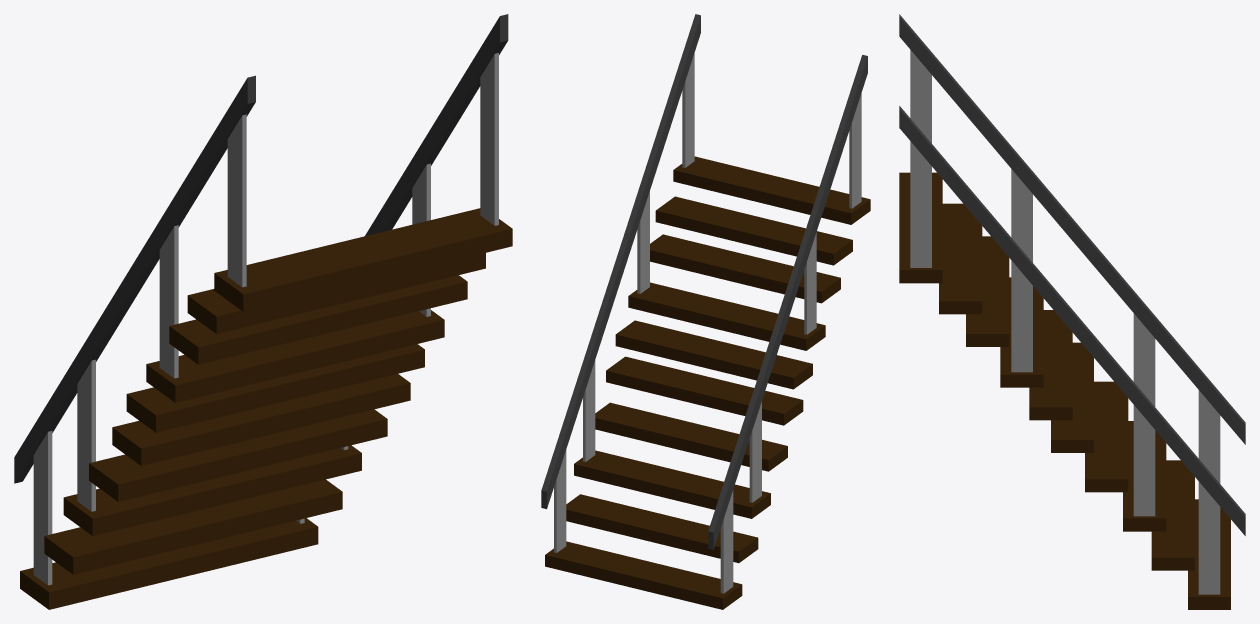
The model's file is StairCase_01_snaps001.fbx.
3 views of the same model, side by side, from view 1: azimuth 30°, elevation 25°; view 2: azimuth 150°, elevation 25°; view 3: azimuth 270°, elevation 25° (orthographic). The views are drawn at different scales.
Parts seen in each view (by area): view 1: StairCase_01_snaps001; view 2: StairCase_01_snaps001; view 3: StairCase_01_snaps001.
Part boxes in pixels (<box>): StairCase_01_snaps001: <box>14,14,512,609</box>; StairCase_01_snaps001: <box>541,14,870,609</box>; StairCase_01_snaps001: <box>899,14,1245,609</box>.
Bounding box in the file's own units: 200 × 478 × 300.
